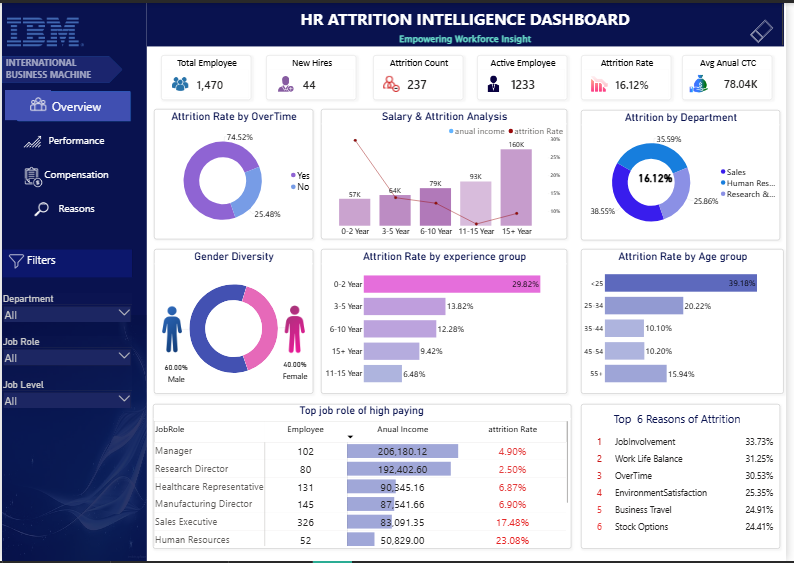

This screenshot's page, from the dashboard's own definition file:
{"tool":"powerbi","page":{"name":"    Overview","canvas":[5200,3700],"ordinal":0},"visuals":[{"type":"textbox","box":[10,0,280,280],"z":0},{"type":"textbox","box":[0,-40,960,3840],"z":1000},{"type":"textbox","box":[960,0,4224,288],"z":2000},{"type":"donutChart","title":"Attrition by Department","fields":{"Category":["WA_Fn-UseC_-HR-Employee-Attrition.Department"],"Y":["All_factors_rate.attrition Rate"]},"box":[3840,710,1320,864],"z":3000},{"type":"card","fields":{"Values":["All_factors_rate.attrition Rate"]},"box":[4128,1010,400,288],"z":4000},{"type":"tableEx","title":"Top reasons of attribute","fields":{"Values":["All_factors_rate.Index","All_factors_rate.Factor_Category","All_factors_rate.Attrition_Rate"]},"box":[3840,2660,1320,960],"z":5000},{"type":"textbox","box":[4032,2688,960,288],"z":6000},{"type":"cardVisual","title":"Total Employee ","fields":{"Data":["CountNonNull(WA_Fn-UseC_-HR-Employee-Attrition.Age)"]},"box":[1056,345,600,300],"z":7000},{"type":"cardVisual","title":"Attrition Count ","fields":{"Data":["All_factors_rate.Total Attrition"]},"box":[2460,345,600,300],"z":8000},{"type":"cardVisual","title":"New Hires","fields":{"Data":["WA_Fn-UseC_-HR-Employee-Attrition.new hiring"]},"box":[1750,345,600,300],"z":9000},{"type":"cardVisual","title":"Attrition Rate","fields":{"Data":["All_factors_rate.attrition Rate"]},"box":[3840,345,600,300],"z":10000},{"type":"cardVisual","title":"Avg Anual CTC","fields":{"Data":["Avg(WA_Fn-UseC_-HR-Employee-Attrition.Anual Income)"]},"box":[4512,345,600,300],"z":11000},{"type":"barChart","title":"Attrition Rate by Age group","fields":{"Category":["WA_Fn-UseC_-HR-Employee-Attrition.Age group "],"Y":["All_factors_rate.attrition Rate"]},"box":[3840,1632,1344,960],"z":12000},{"type":"lineClusteredColumnComboChart","title":"Salary & Attrition Analysis","fields":{"Category":["WA_Fn-UseC_-HR-Employee-Attrition.experience group"],"Y":["Avg(WA_Fn-UseC_-HR-Employee-Attrition.Anual Income)"],"Y2":["All_factors_rate.attrition Rate"]},"box":[2112,700,1632,864],"z":13000},{"type":"pivotTable","title":"Top job role of high paying","fields":{"Rows":["WA_Fn-UseC_-HR-Employee-Attrition.JobRole"],"Values":["CountNonNull(WA_Fn-UseC_-HR-Employee-Attrition.EmployeeNumber)","Avg(WA_Fn-UseC_-HR-Employee-Attrition.Anual Income)","All_factors_rate.attrition Rate"]},"box":[1004,2660,2774,960],"z":14000},{"type":"donutChart","title":"Gender Diversity","fields":{"Category":["WA_Fn-UseC_-HR-Employee-Attrition.Gender"],"Y":["CountNonNull(WA_Fn-UseC_-HR-Employee-Attrition.EmployeeNumber)"]},"box":[1006,1632,1056,960],"z":15000},{"type":"pieChart","title":"Attrition Rate by OverTime","fields":{"Category":["WA_Fn-UseC_-HR-Employee-Attrition.OverTime"],"Y":["All_factors_rate.attrition Rate"]},"box":[1006,700,1056,864],"z":16000},{"type":"cardVisual","title":"Active Employee","fields":{"Data":["All_factors_rate.active Employee"]},"box":[3150,345,600,300],"z":17000},{"type":"image","box":[1800,1920,288,480],"z":18000},{"type":"image","box":[935,1920,384,480],"z":19000},{"type":"card","fields":{"Values":["All_factors_rate.Male"]},"box":[916,2304,480,288],"z":20000},{"type":"card","fields":{"Values":["All_factors_rate.Female"]},"box":[1750,2233,384,384],"z":21000},{"type":"image","box":[0,0,576,384],"z":22000},{"type":"textbox","box":[18,350,672,288],"z":23000},{"type":"pageNavigator","box":[96,576,768,889],"z":24000},{"type":"textbox","box":[20,580,305,200],"z":25000},{"type":"image","box":[0,480,480,384],"z":26000},{"type":"image","box":[0,2068,960,1632],"z":27000},{"type":"textbox","box":[0,1632,864,192],"z":28000},{"type":"image","box":[0,1650,192,120],"z":29000},{"type":"slicer","title":"Department","fields":{"Values":["WA_Fn-UseC_-HR-Employee-Attrition.Department"]},"box":[0,1920,864,192],"z":30000},{"type":"slicer","title":"Job Role","fields":{"Values":["WA_Fn-UseC_-HR-Employee-Attrition.JobRole"]},"box":[0,2208,864,288],"z":31000},{"type":"slicer","title":"Job Level","fields":{"Values":["WA_Fn-UseC_-HR-Employee-Attrition.JobLevel"]},"box":[0,2496,864,192],"z":32000},{"type":"shape","box":[0,350,800,180],"z":33000},{"type":"actionButton","box":[4896,96,288,192],"z":34000},{"type":"image","box":[129,865,150,115],"z":35000},{"type":"image","box":[118,1080,179,146],"z":36000},{"type":"image","box":[168,1322,192,96],"z":37000},{"type":"barChart","title":"Attrition Rate by experience group","fields":{"Y":["All_factors_rate.attrition Rate"],"Category":["WA_Fn-UseC_-HR-Employee-Attrition.experience group"]},"box":[2112,1632,1632,960],"z":38000}]}

Visuals, with their boxes on the page's 5200x3700 design canvas (x1, y1, x2, y2). These are canvas units, not pixel positions in the 794x563 screenshot, which may show the page scaled, cropped or inside an application window:
textbox: detection(10, 0, 290, 280)
textbox: detection(0, -40, 960, 3800)
textbox: detection(960, 0, 5184, 288)
"Attrition by Department" donutChart: detection(3840, 710, 5160, 1574)
card - All_factors_rate.attrition Rate: detection(4128, 1010, 4528, 1298)
"Top reasons of attribute" tableEx: detection(3840, 2660, 5160, 3620)
textbox: detection(4032, 2688, 4992, 2976)
"Total Employee " cardVisual: detection(1056, 345, 1656, 645)
"Attrition Count " cardVisual: detection(2460, 345, 3060, 645)
"New Hires" cardVisual: detection(1750, 345, 2350, 645)
"Attrition Rate" cardVisual: detection(3840, 345, 4440, 645)
"Avg Anual CTC" cardVisual: detection(4512, 345, 5112, 645)
"Attrition Rate by Age group" barChart: detection(3840, 1632, 5184, 2592)
"Salary & Attrition Analysis" lineClusteredColumnComboChart: detection(2112, 700, 3744, 1564)
"Top job role of high paying" pivotTable: detection(1004, 2660, 3778, 3620)
"Gender Diversity" donutChart: detection(1006, 1632, 2062, 2592)
"Attrition Rate by OverTime" pieChart: detection(1006, 700, 2062, 1564)
"Active Employee" cardVisual: detection(3150, 345, 3750, 645)
image: detection(1800, 1920, 2088, 2400)
image: detection(935, 1920, 1319, 2400)
card - All_factors_rate.Male: detection(916, 2304, 1396, 2592)
card - All_factors_rate.Female: detection(1750, 2233, 2134, 2617)
image: detection(0, 0, 576, 384)
textbox: detection(18, 350, 690, 638)
pageNavigator: detection(96, 576, 864, 1465)
textbox: detection(20, 580, 325, 780)
image: detection(0, 480, 480, 864)
image: detection(0, 2068, 960, 3700)
textbox: detection(0, 1632, 864, 1824)
image: detection(0, 1650, 192, 1770)
"Department" slicer: detection(0, 1920, 864, 2112)
"Job Role" slicer: detection(0, 2208, 864, 2496)
"Job Level" slicer: detection(0, 2496, 864, 2688)
shape: detection(0, 350, 800, 530)
actionButton: detection(4896, 96, 5184, 288)
image: detection(129, 865, 279, 980)
image: detection(118, 1080, 297, 1226)
image: detection(168, 1322, 360, 1418)
"Attrition Rate by experience group" barChart: detection(2112, 1632, 3744, 2592)
